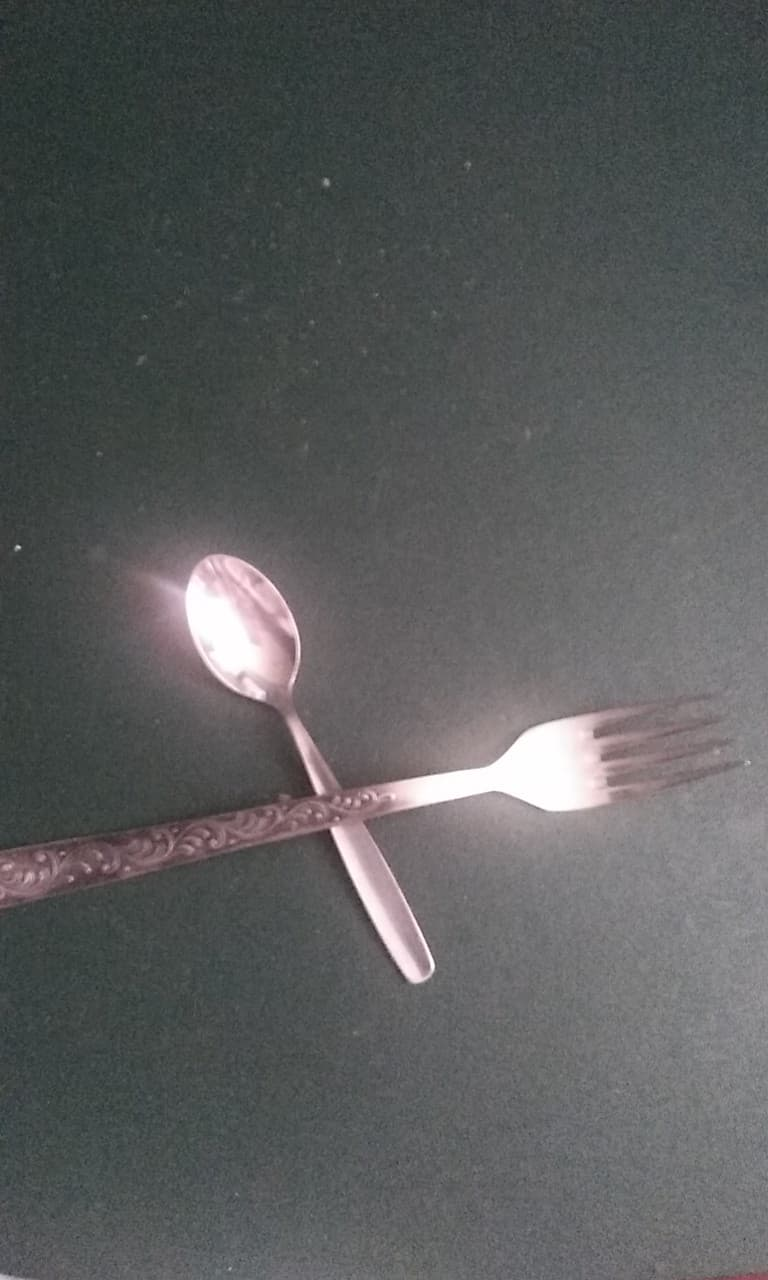Lyzka: (159, 548, 347, 724)
Widelec: (482, 684, 756, 829)
